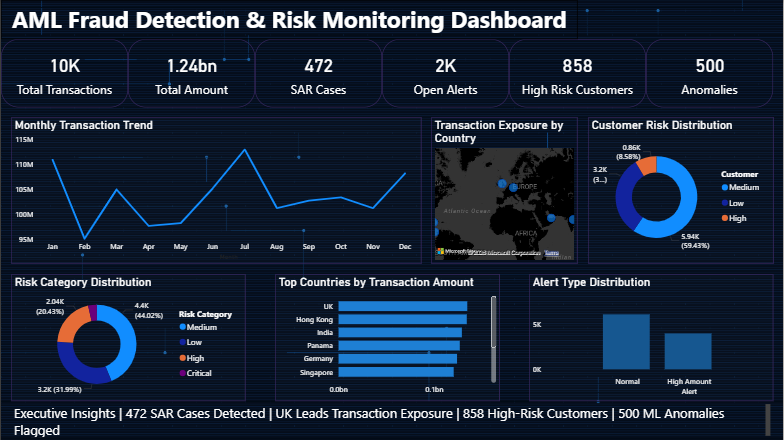

The page's visual inventory and layout, read from the dashboard file:
{"tool":"powerbi","page":{"name":"Executive Overview","canvas":[1280,720],"ordinal":0},"visuals":[{"type":"card","fields":{"Values":["aml_enriched.Total Transactions"]},"box":[0,64,208,112],"z":0},{"type":"card","fields":{"Values":["aml_enriched.Anomalies"]},"box":[1056,64,208,112],"z":1000},{"type":"card","fields":{"Values":["aml_enriched.Open Alerts"]},"box":[624,64,208,112],"z":2000},{"type":"card","fields":{"Values":["aml_enriched.Total Amount"]},"box":[208,64,208,112],"z":3000},{"type":"card","fields":{"Values":["aml_enriched.SAR Cases"]},"box":[416,64,208,112],"z":4000},{"type":"card","fields":{"Values":["aml_enriched.High Risk Customers"]},"box":[832,64,224,112],"z":5000},{"type":"textbox","box":[0,0,944,64],"z":7000},{"type":"lineChart","title":"Monthly Transaction Trend","fields":{"Category":["aml_enriched.Month"],"Y":["Sum(aml_enriched.Transaction_Amount)"]},"box":[16,192,672,240],"z":8000},{"type":"donutChart","title":"Customer Risk Distribution","fields":{"Category":["aml_enriched.Customer_Risk"],"Y":["CountNonNull(aml_enriched.Transaction_ID)"]},"box":[960,192,304,240],"z":9000},{"type":"clusteredColumnChart","title":"Alert Type Distribution","fields":{"Category":["aml_enriched.Alert_Type"],"Y":["CountNonNull(aml_enriched.Transaction_ID)"]},"box":[864,448,400,208],"z":10000},{"type":"clusteredBarChart","title":"Top Countries by Transaction Amount","fields":{"Category":["aml_enriched.Country"],"Y":["Sum(aml_enriched.Transaction_Amount)"]},"box":[448,448,368,208],"z":11000},{"type":"map","title":"Transaction Exposure by Country","fields":{"Category":["aml_enriched.Country"],"Size":["Sum(aml_enriched.Transaction_Amount)"]},"box":[704,192,240,240],"z":12000},{"type":"donutChart","title":"Risk Category Distribution","fields":{"Category":["aml_enriched.Risk_Category"],"Y":["CountNonNull(aml_enriched.Transaction_ID)"]},"box":[16,448,384,208],"z":13000},{"type":"textbox","box":[16,656,1248,64],"z":13002}]}

Visuals, with their boxes in screenshot pixels (x1, y1, x2, y2), scaled from the page's 1280x720 canvas onto the 784x440 screenshot:
card - aml_enriched.Total Transactions: left=0, top=39, right=127, bottom=108
card - aml_enriched.Anomalies: left=647, top=39, right=774, bottom=108
card - aml_enriched.Open Alerts: left=382, top=39, right=510, bottom=108
card - aml_enriched.Total Amount: left=127, top=39, right=255, bottom=108
card - aml_enriched.SAR Cases: left=255, top=39, right=382, bottom=108
card - aml_enriched.High Risk Customers: left=510, top=39, right=647, bottom=108
textbox: left=0, top=0, right=578, bottom=39
"Monthly Transaction Trend" lineChart: left=10, top=117, right=421, bottom=264
"Customer Risk Distribution" donutChart: left=588, top=117, right=774, bottom=264
"Alert Type Distribution" clusteredColumnChart: left=529, top=274, right=774, bottom=401
"Top Countries by Transaction Amount" clusteredBarChart: left=274, top=274, right=500, bottom=401
"Transaction Exposure by Country" map: left=431, top=117, right=578, bottom=264
"Risk Category Distribution" donutChart: left=10, top=274, right=245, bottom=401
textbox: left=10, top=401, right=774, bottom=439
